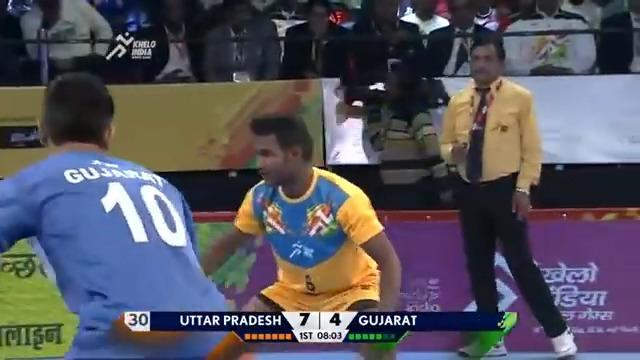Player: (0, 70, 247, 359)
Raider: (199, 112, 406, 358)
referee: (438, 28, 578, 358)
